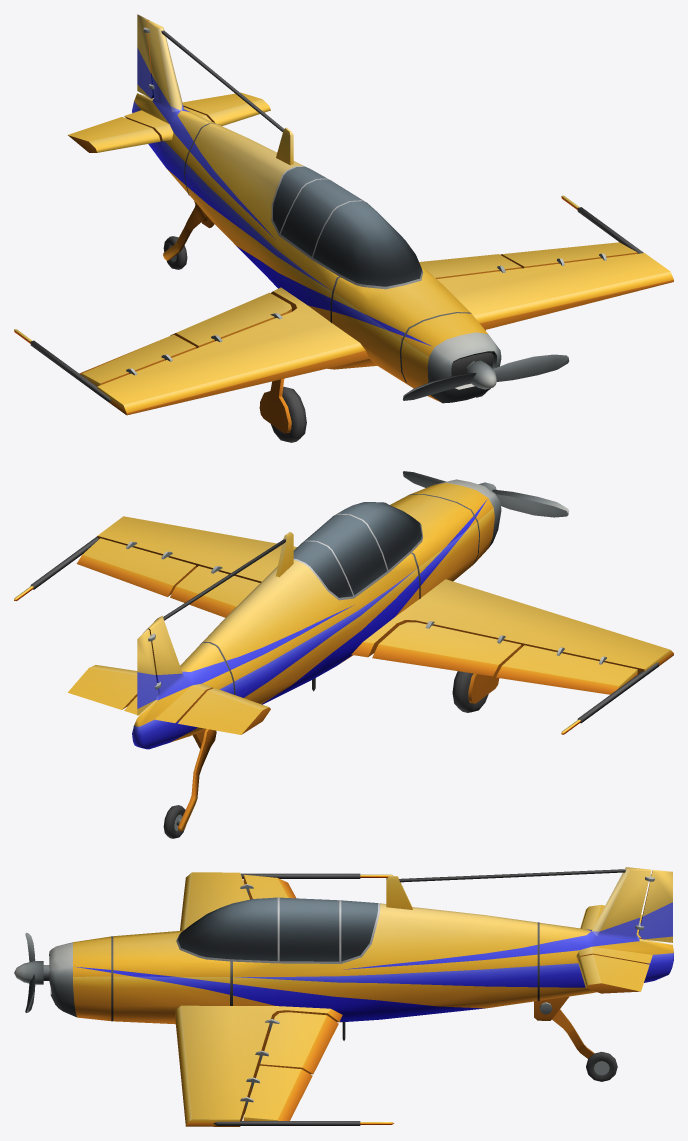
3 views of the same model, one above another, from view 1: azimuth 30°, elevation 25°; view 2: azimuth 150°, elevation 25°; view 3: azimuth 270°, elevation 25° (orthographic). The views are drawn at different scales.
Visible parts, largest first — view 1: Fuselage_Plane_1B, Propeller_1B, Flap_1B_F.R, Aileron_1B_F.R, Elevator_1B_R.R, Aileron_1B_F.L, Elevator_1B_R.L, Flap_1B_F.L, Landing_Gear_1B_F.R, Rudder_1B, Wheel_1B_F.R, Landing_Gear_1B_R; view 2: Fuselage_Plane_1B, Flap_1B_F.R, Aileron_1B_F.R, Aileron_1B_F.L, Elevator_1B_R.R, Flap_1B_F.L, Elevator_1B_R.L, Propeller_1B, Rudder_1B, Landing_Gear_1B_R, Wheel_1B_F.R, Landing_Gear_1B_F.R; view 3: Fuselage_Plane_1B, Flap_1B_F.L, Aileron_1B_F.L, Elevator_1B_R.L, Rudder_1B, Aileron_1B_F.R, Propeller_1B, Wheel_1B_R, Landing_Gear_1B_R, Elevator_1B_R.R.
Boxes of the visible parts, x1,y1,x2,y2 form: Fuselage_Plane_1B: (14, 20, 673, 415); Propeller_1B: (403, 354, 569, 400); Flap_1B_F.R: (170, 292, 291, 348); Aileron_1B_F.R: (79, 334, 196, 386); Elevator_1B_R.R: (68, 117, 160, 152); Aileron_1B_F.L: (500, 242, 637, 268); Elevator_1B_R.L: (182, 92, 270, 125); Flap_1B_F.L: (419, 254, 521, 278); Landing_Gear_1B_F.R: (259, 379, 291, 433); Rudder_1B: (137, 14, 154, 98); Wheel_1B_F.R: (271, 386, 306, 442); Landing_Gear_1B_R: (163, 203, 207, 260); Fuselage_Plane_1B: (14, 479, 673, 749); Flap_1B_F.R: (372, 621, 521, 676); Aileron_1B_F.R: (496, 645, 637, 694); Aileron_1B_F.L: (76, 538, 196, 596); Elevator_1B_R.R: (178, 688, 270, 734); Flap_1B_F.L: (170, 566, 259, 617); Elevator_1B_R.L: (68, 665, 137, 709); Propeller_1B: (403, 471, 569, 517); Rudder_1B: (137, 629, 161, 715); Landing_Gear_1B_R: (176, 729, 216, 831); Wheel_1B_F.R: (452, 671, 488, 712); Landing_Gear_1B_F.R: (468, 673, 499, 703); Fuselage_Plane_1B: (43, 867, 673, 1126); Flap_1B_F.L: (255, 1012, 338, 1074); Aileron_1B_F.L: (240, 1065, 312, 1120); Elevator_1B_R.L: (578, 954, 649, 993); Rudder_1B: (635, 870, 672, 942); Aileron_1B_F.R: (240, 874, 295, 899); Propeller_1B: (14, 932, 43, 1012); Wheel_1B_R: (586, 1051, 617, 1081); Landing_Gear_1B_R: (539, 1002, 594, 1058); Elevator_1B_R.R: (580, 905, 642, 938).
Size of the model in its own units: 719 by 288 by 806.
